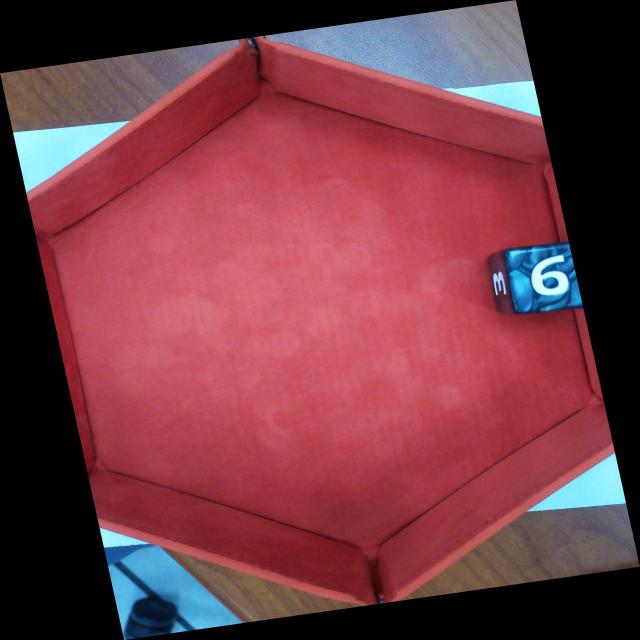dice: (502, 243, 588, 317)
